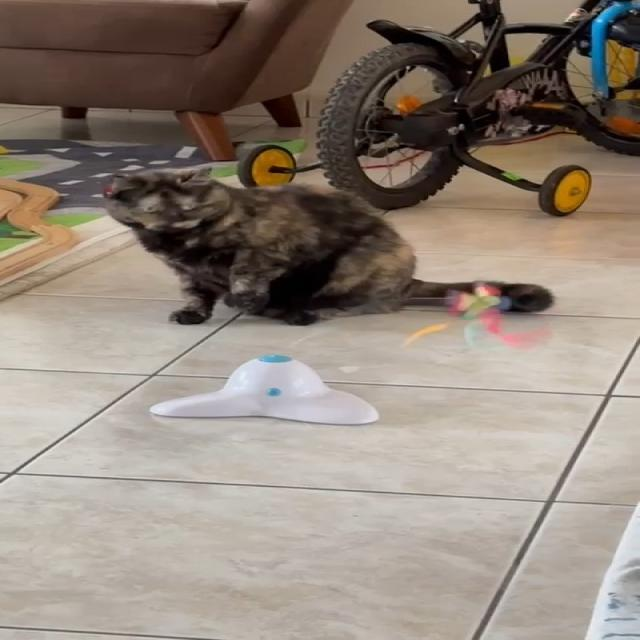authorized: (100, 165, 555, 326)
